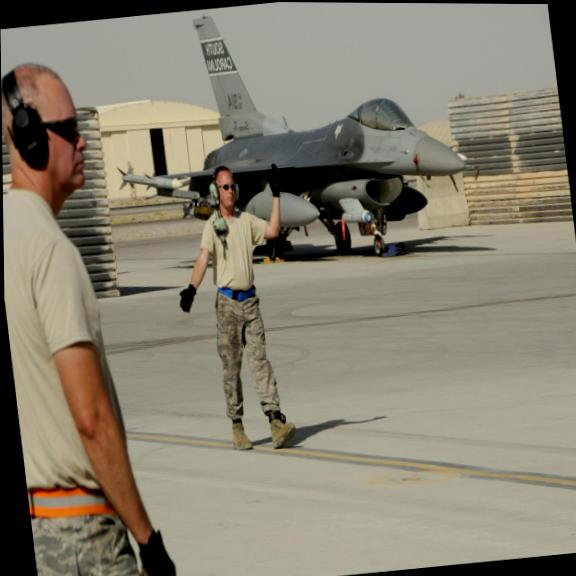no_safety_vest: (3, 188, 121, 471), (201, 198, 267, 299)
